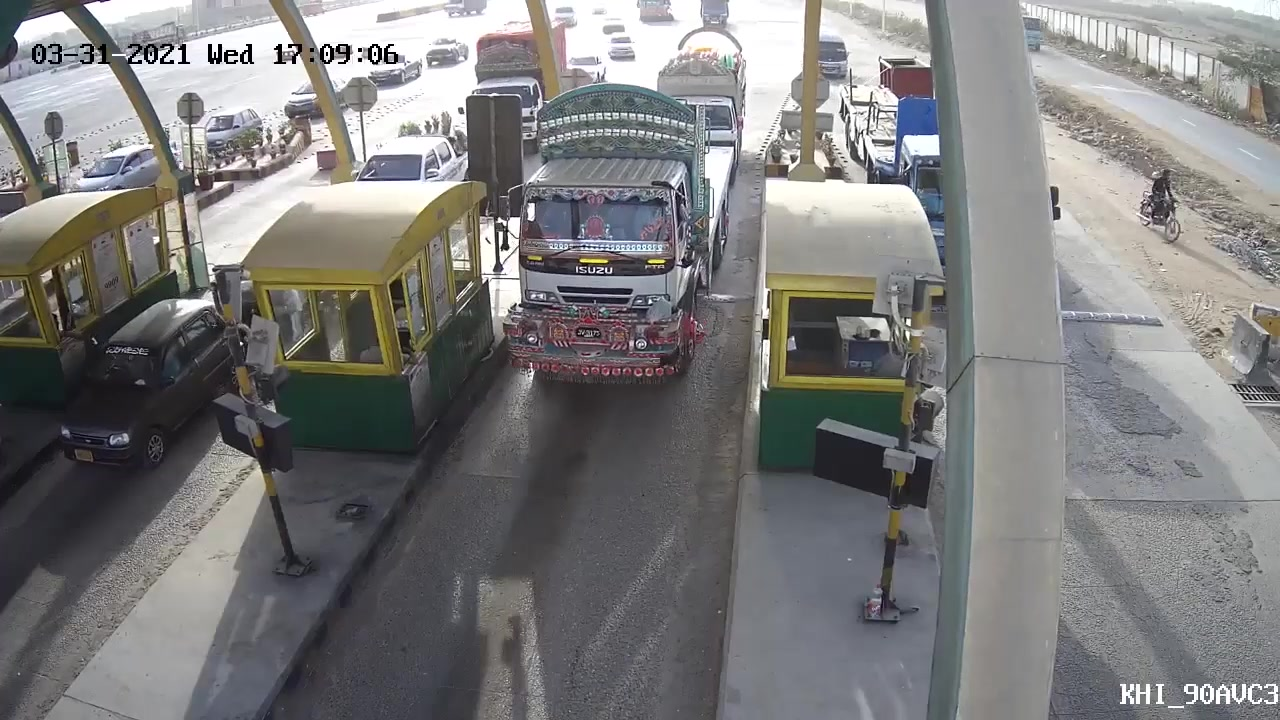F5: (498, 72, 747, 390)
